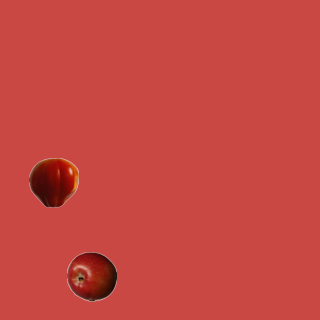Apple Braeburn: (66, 251, 116, 301)
Tomato 1: (28, 157, 78, 207)
